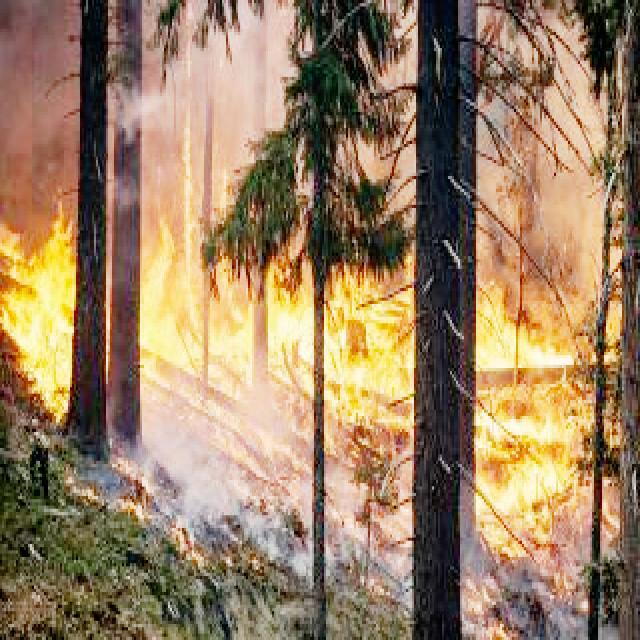api: (217, 248, 582, 379), (2, 195, 82, 430), (138, 207, 219, 379), (462, 458, 567, 533), (178, 34, 202, 344), (473, 395, 580, 452)
asap: (151, 406, 336, 588), (461, 532, 617, 640), (331, 467, 420, 611)
